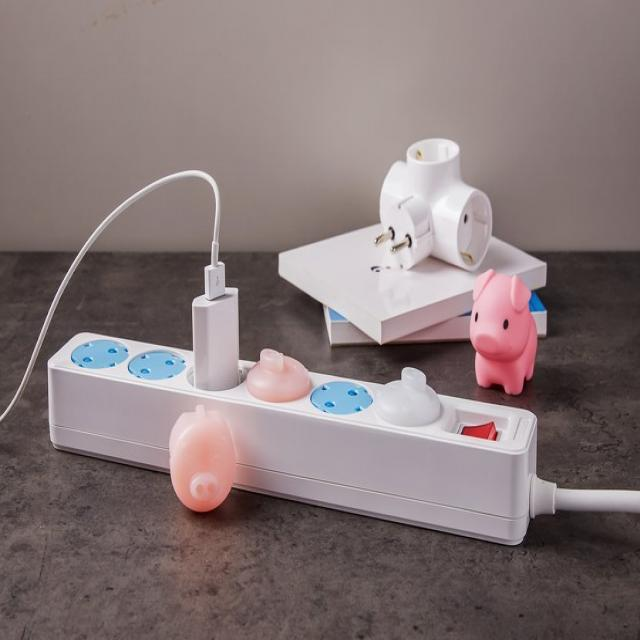typeb: (19, 291, 564, 580)
